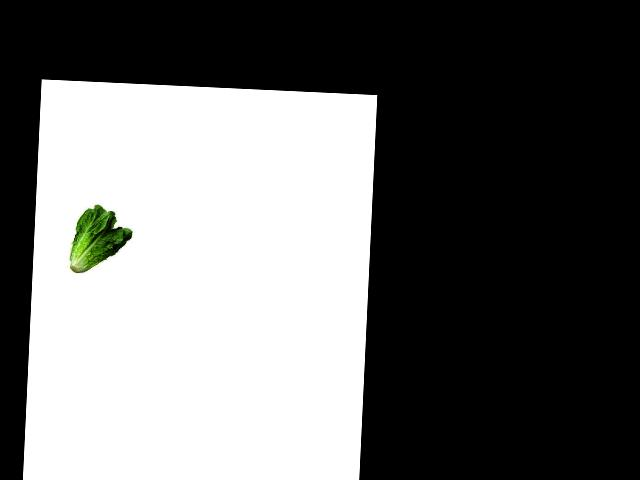lettuce: (65, 203, 137, 273)
